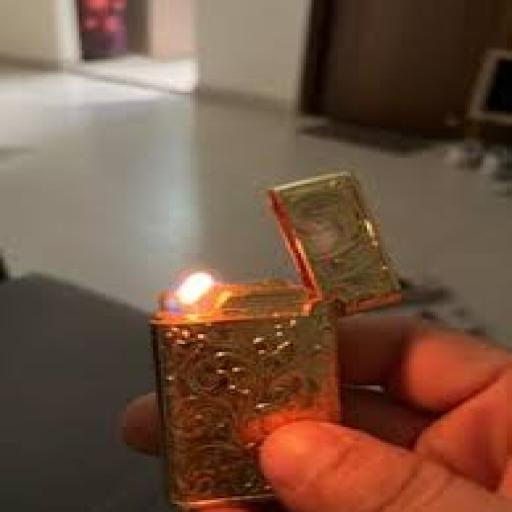fire: (153, 261, 232, 314)
